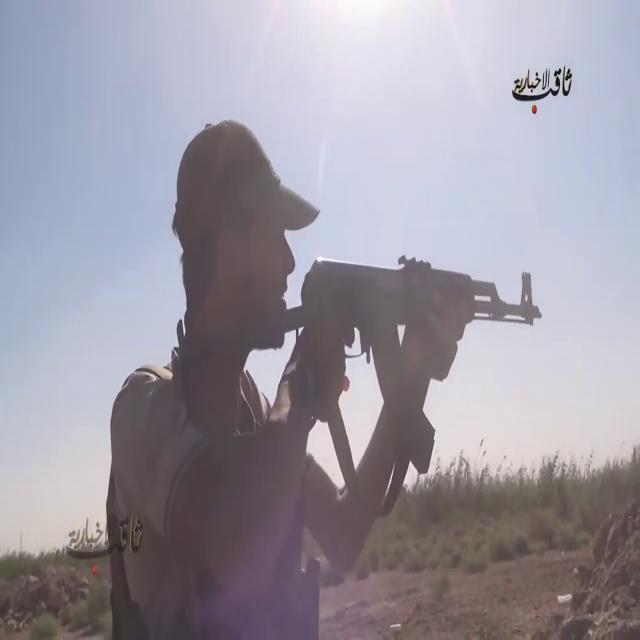long weapon: (293, 246, 551, 474)
